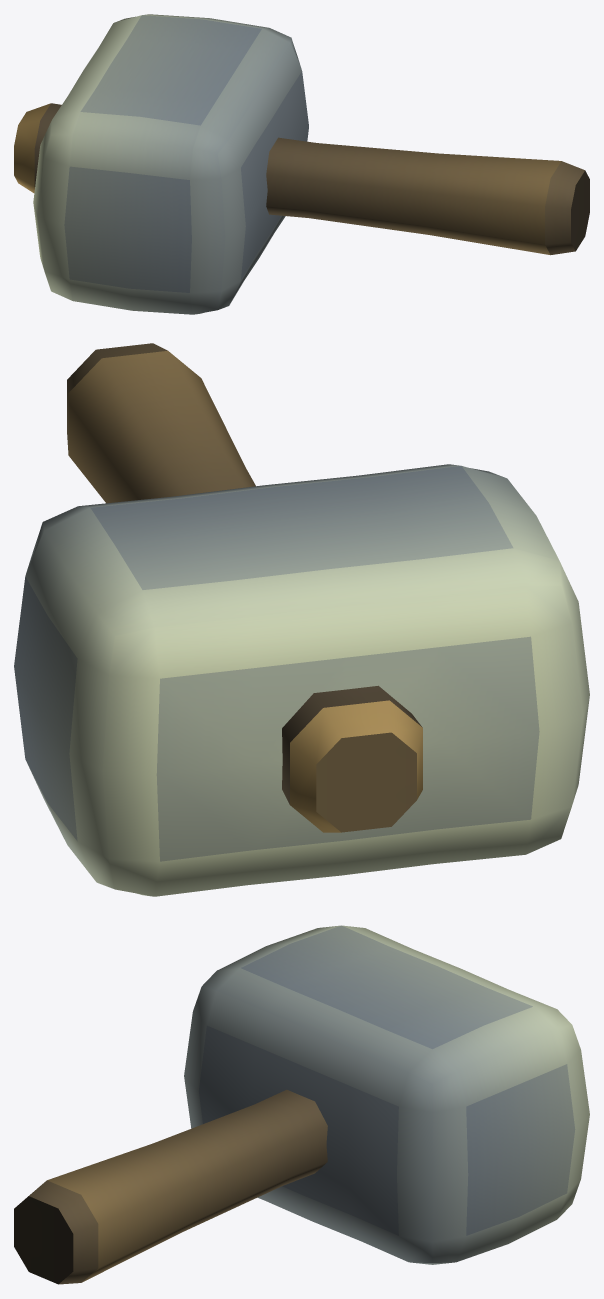
Rendered from hammer_metal.fbx.
3 views of the same model, one above another, from view 1: azimuth 30°, elevation 25°; view 2: azimuth 150°, elevation 25°; view 3: azimuth 270°, elevation 25° (orthographic). The views are drawn at different scales.
Visible parts, largest first — view 1: hammer_metal; view 2: hammer_metal; view 3: hammer_metal.
Part boxes in pixels (x1=…): hammer_metal: x1=14, y1=14, x2=589, y2=314; hammer_metal: x1=14, y1=343, x2=589, y2=896; hammer_metal: x1=14, y1=925, x2=589, y2=1284.
Size of the model in its own units: 70.4 by 29.81 by 70.41.
Materials: 1 (1 with a texture image).
